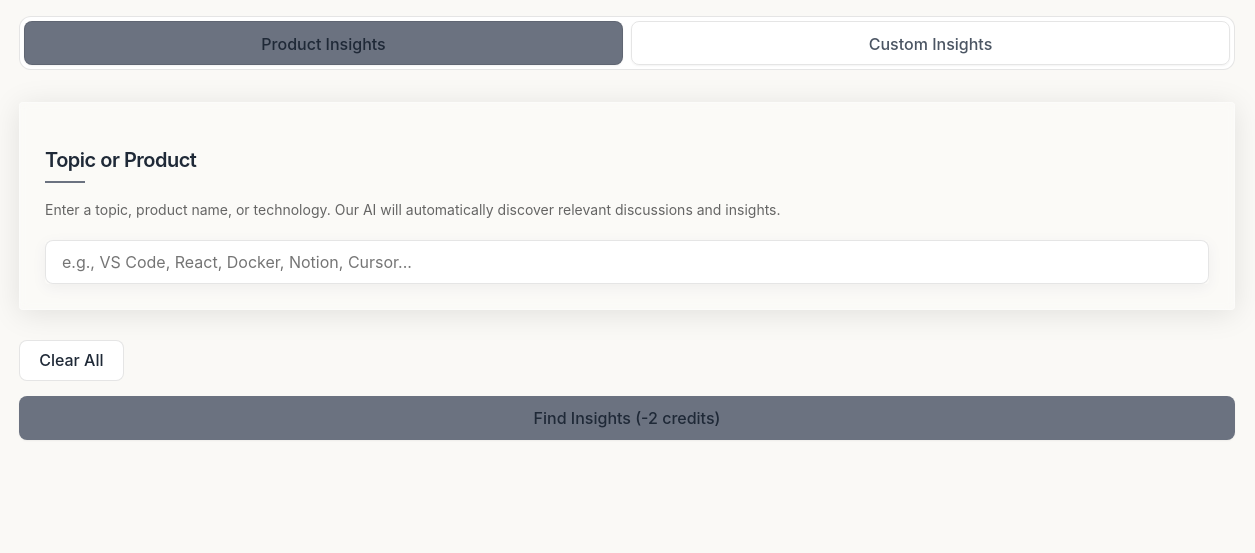
ScrapePage › Rendering › shows custom insights form when custom toggle is selected
What coordinates should you click on to do the following:
click the button "Custom Insights"
I would click on:
 (930, 43)
Its box is [631,21,1230,65].
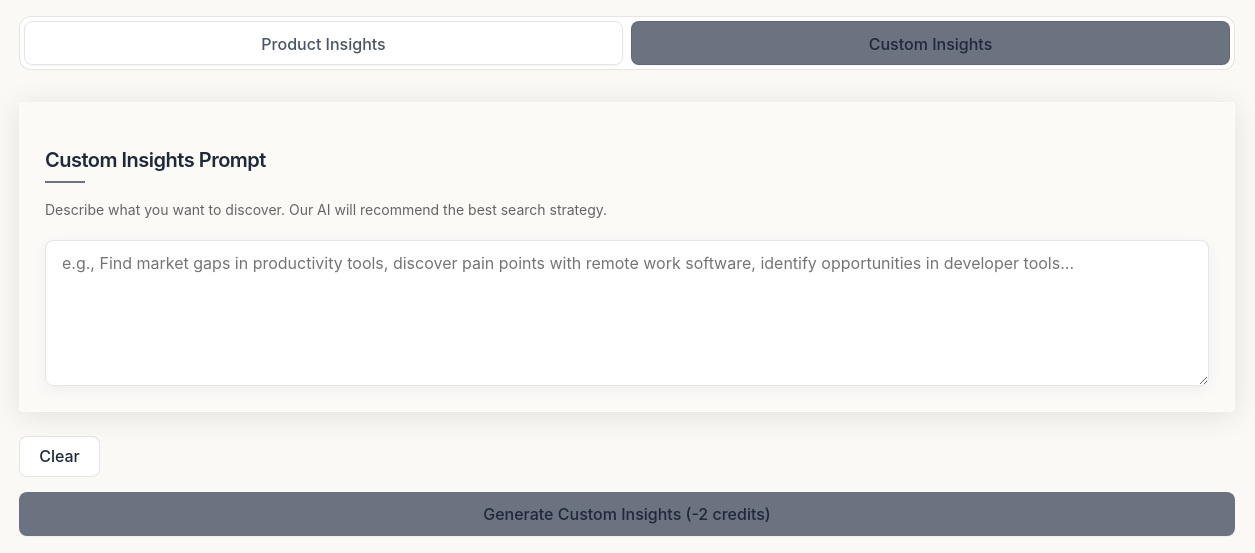
Check: the heading "Custom Insights Prompt" is shown, box [45,145,266,175]
Check: the text box with placeholder "Find market gaps" is shown, box [45,240,1209,386]
